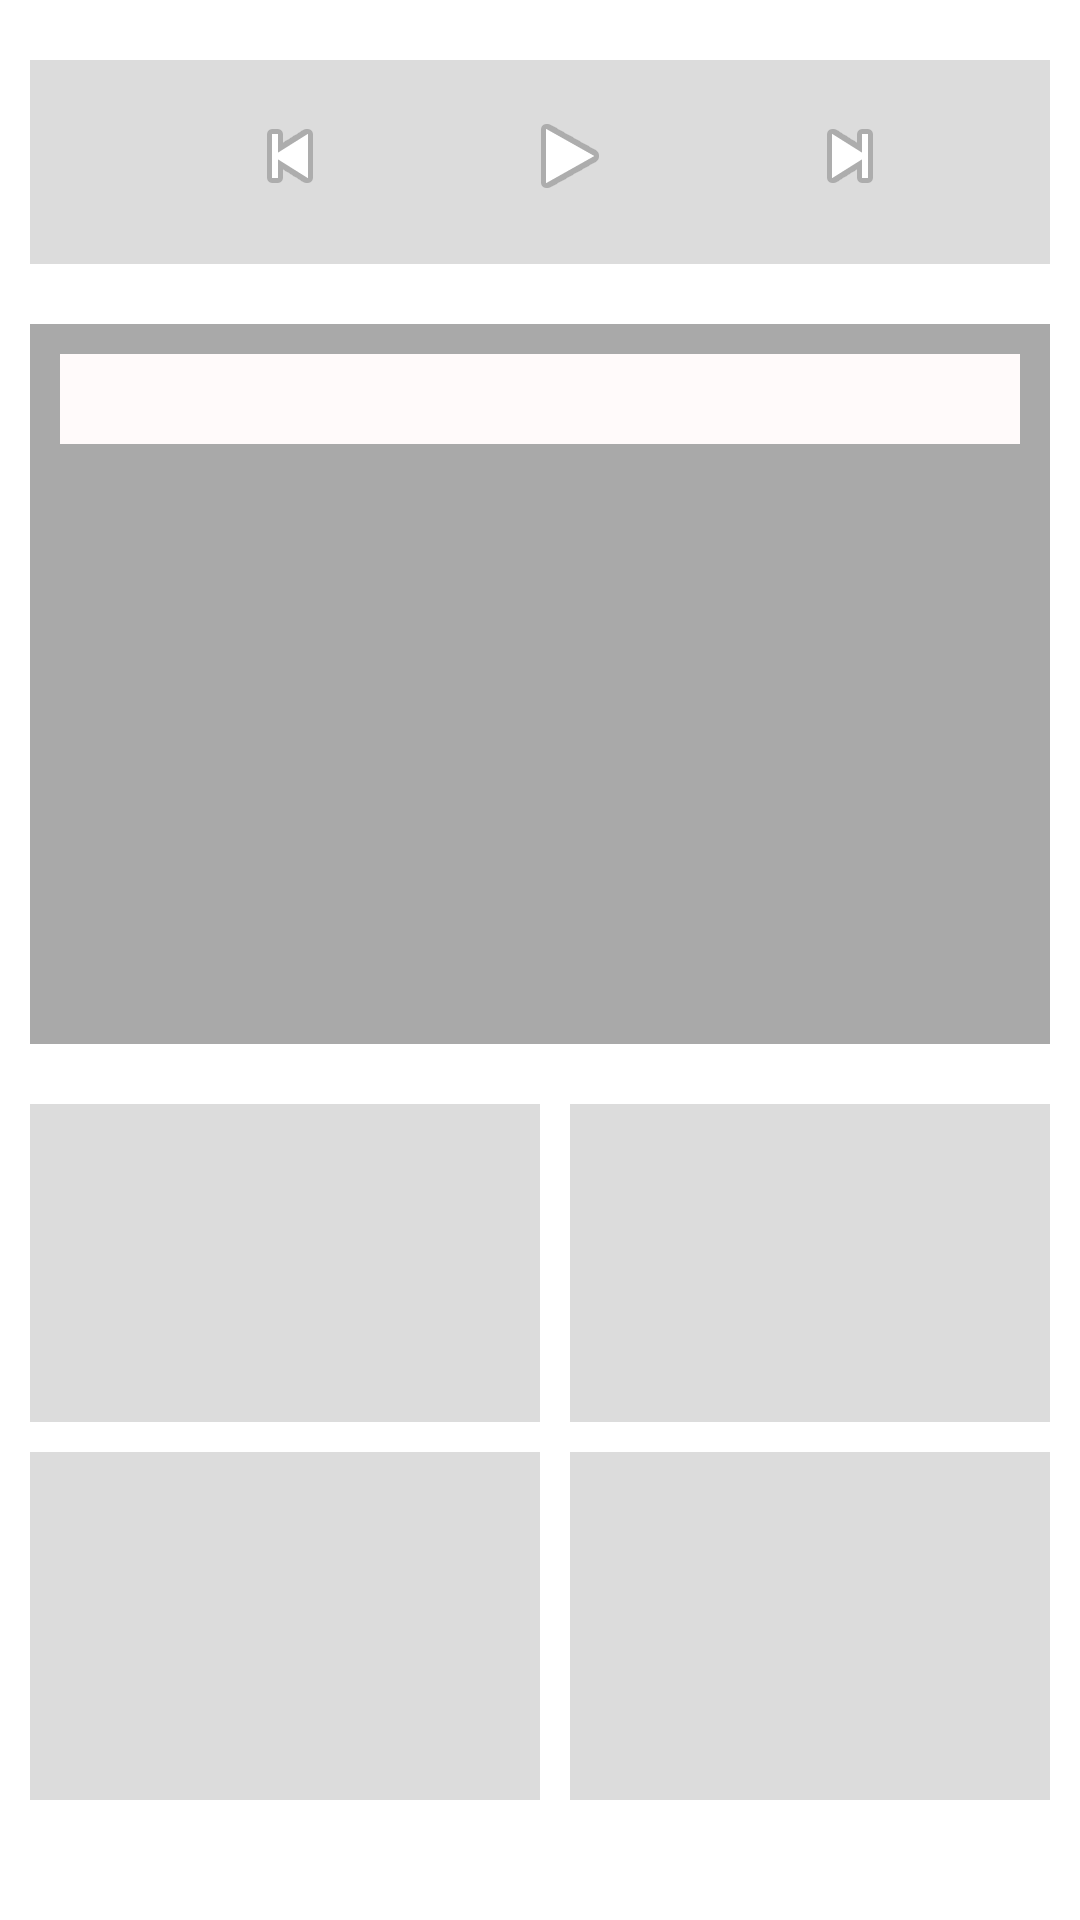

Screen size 1080 x 1920. Icon name, then its center in pixels as point (x, y):
next: point (850, 156)
play: point (570, 156)
previous: point (290, 156)
